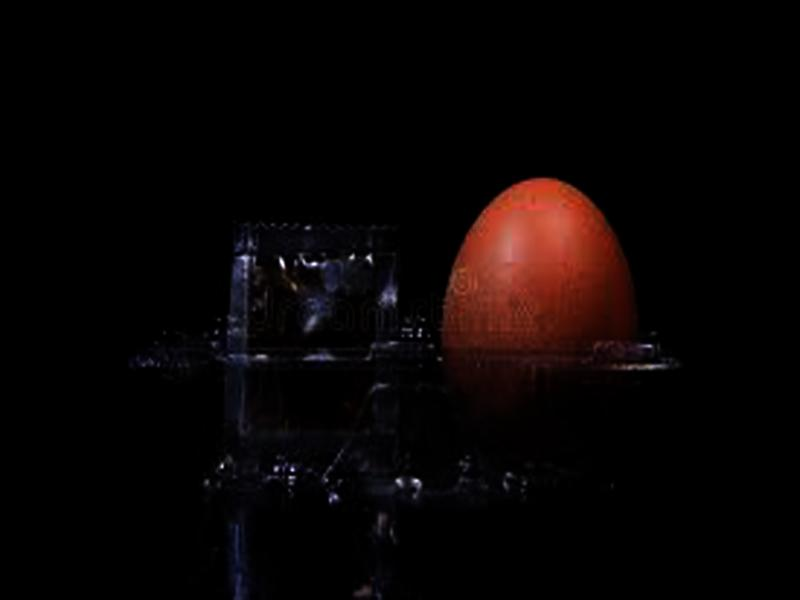Eggs: (442, 177, 643, 472)
